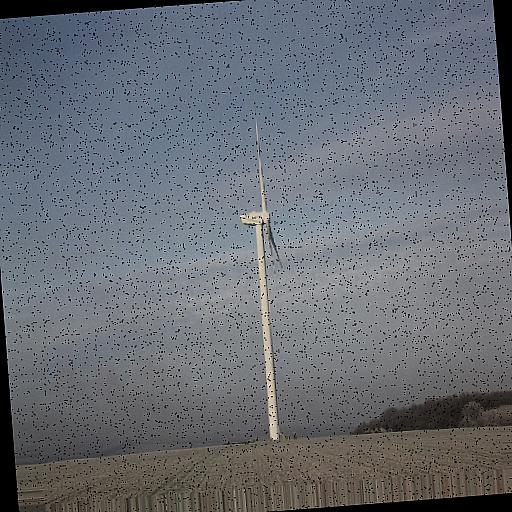wind turbine: (239, 121, 288, 442)
